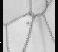good_void: (25, 19, 30, 25)
